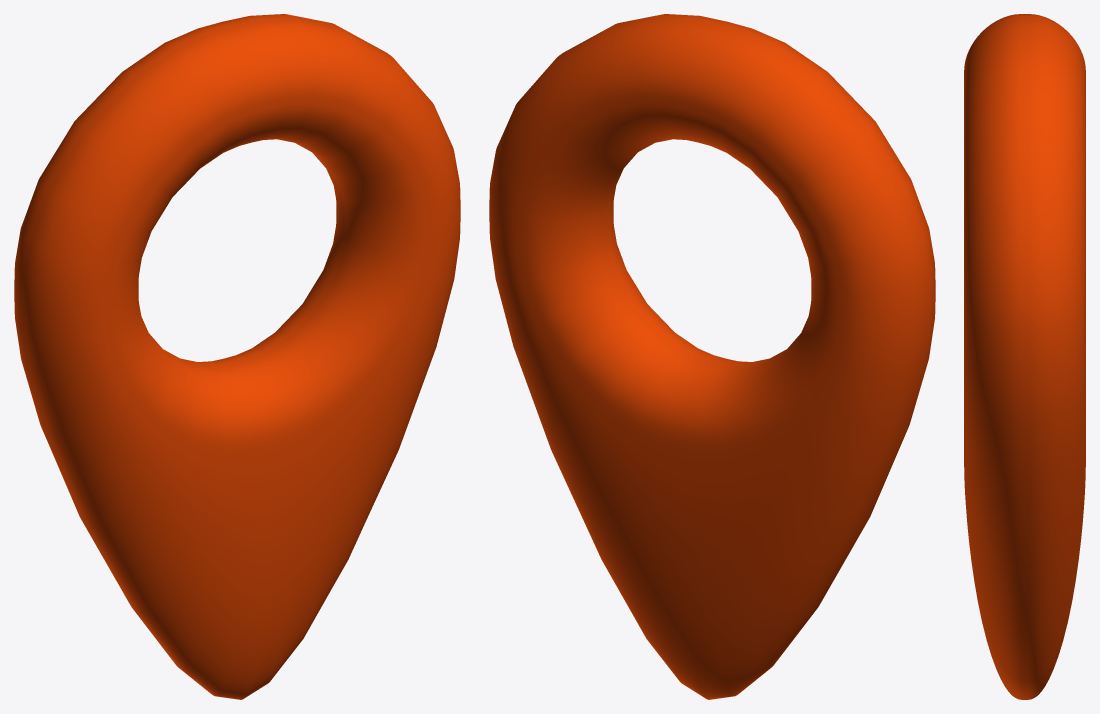
File: map-icon.gltf
The picture shows the model from 3 angles, left to right: view 1: azimuth 30°, elevation 25°; view 2: azimuth 150°, elevation 25°; view 3: azimuth 270°, elevation 25°; orthographic projection.
Parts seen in each view (by area): view 1: SurfTorus; view 2: SurfTorus; view 3: SurfTorus.
Boxes of the visible parts, bbox=[...] form: SurfTorus: bbox=[14, 14, 460, 699]; SurfTorus: bbox=[489, 14, 935, 699]; SurfTorus: bbox=[964, 14, 1085, 699].
Size of the model in its own units: 2 by 2.99 by 0.5.
